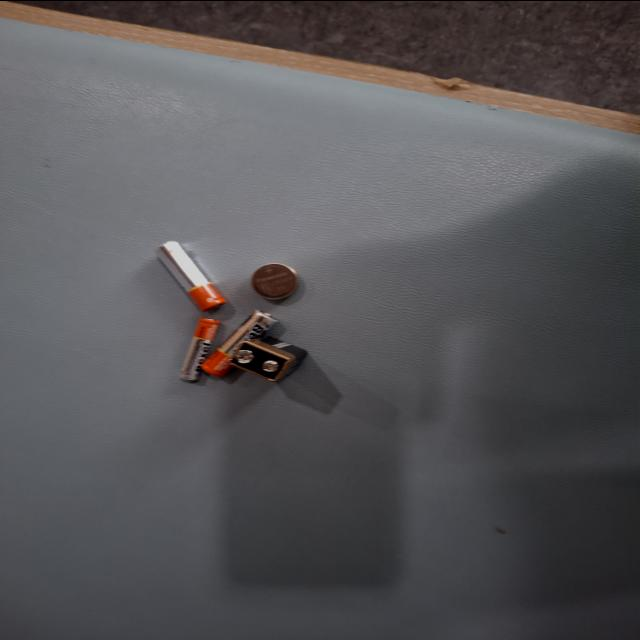AA: (412, 430, 504, 490), (320, 471, 414, 521)
AAA: (422, 474, 508, 506)
COIN: (350, 417, 400, 452)
